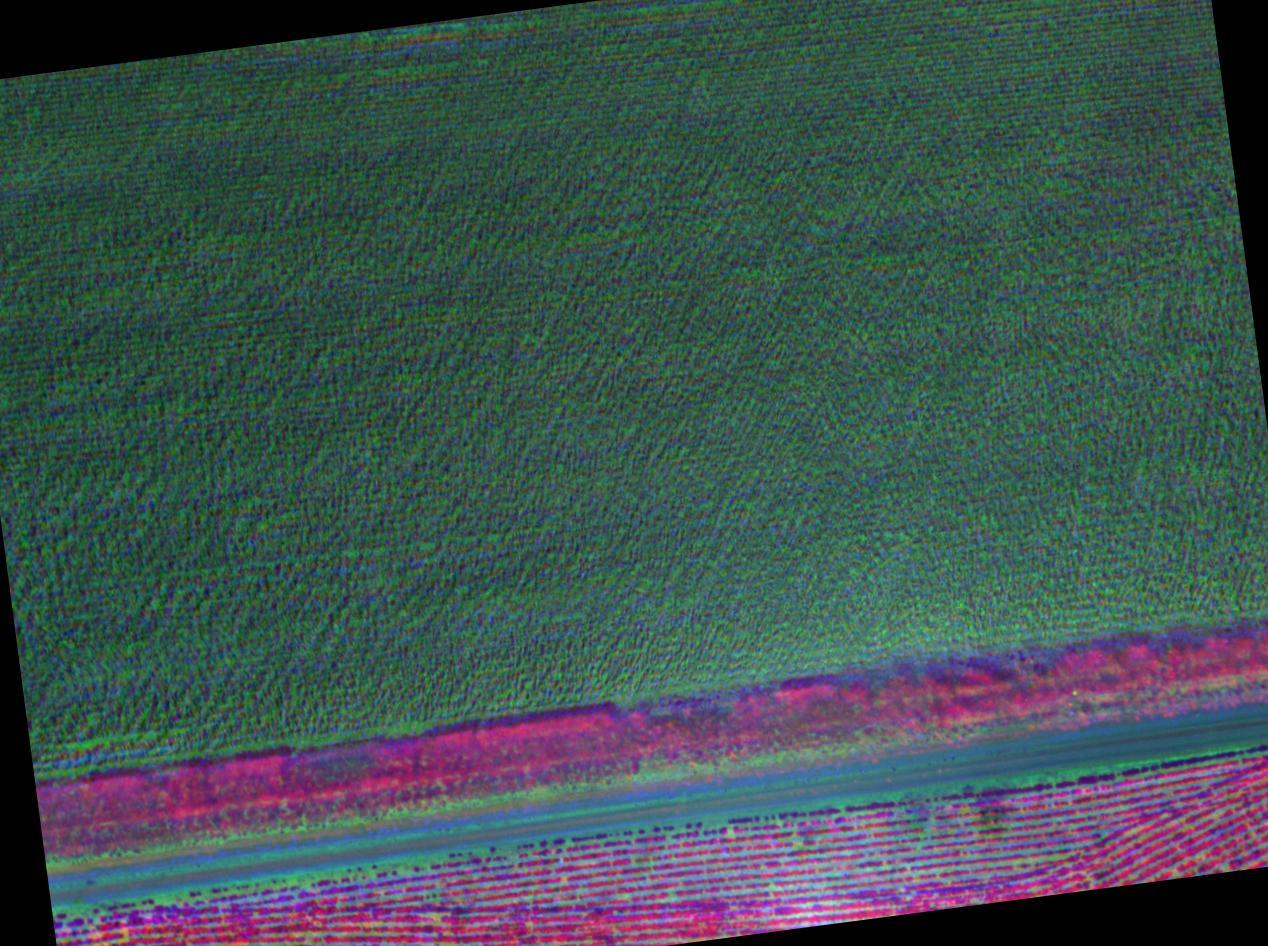dc: (944, 766, 1046, 860)
